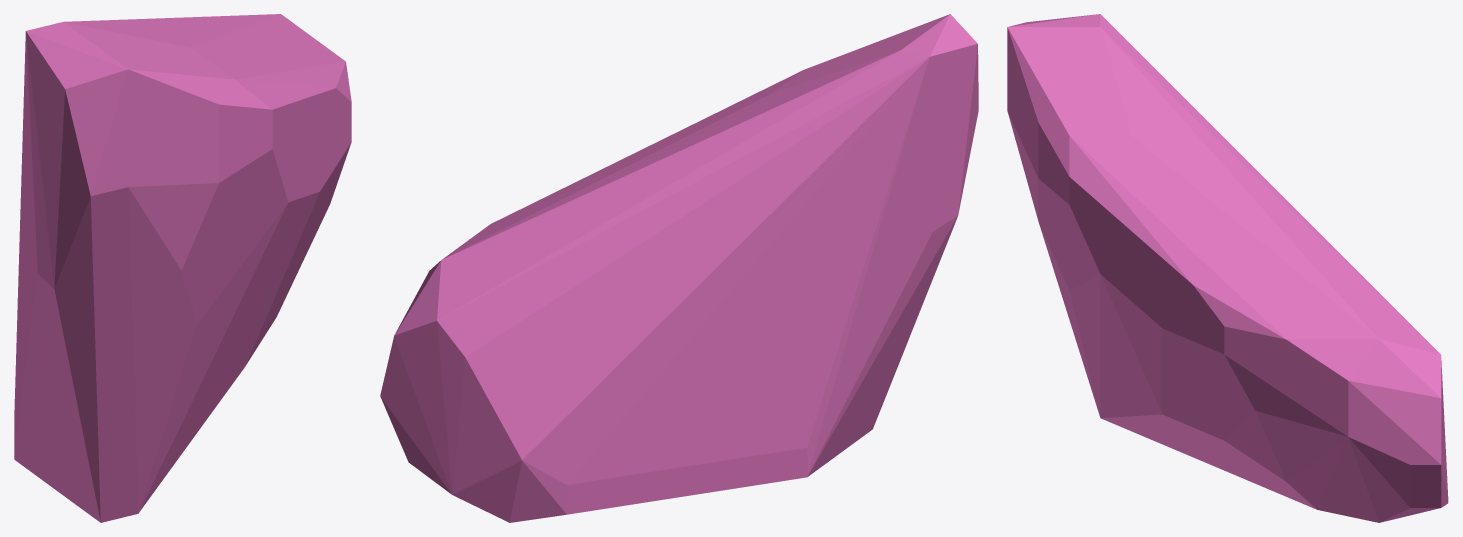
File: mouth_cup016.obj
3 views of the same model, side by side, from view 1: azimuth 30°, elevation 25°; view 2: azimuth 150°, elevation 25°; view 3: azimuth 270°, elevation 25° (orthographic). The views are drawn at different scales.
Parts seen in each view (by area): view 1: mouth_cup016_mouth_cup016.001; view 2: mouth_cup016_mouth_cup016.001; view 3: mouth_cup016_mouth_cup016.001.
Boxes of the visible parts, bbox=[...] form: mouth_cup016_mouth_cup016.001: bbox=[14, 14, 351, 522]; mouth_cup016_mouth_cup016.001: bbox=[380, 14, 978, 522]; mouth_cup016_mouth_cup016.001: bbox=[1007, 14, 1448, 522].
Bounding box in the file's own units: 0.1258 × 0.1256 × 0.1344.
